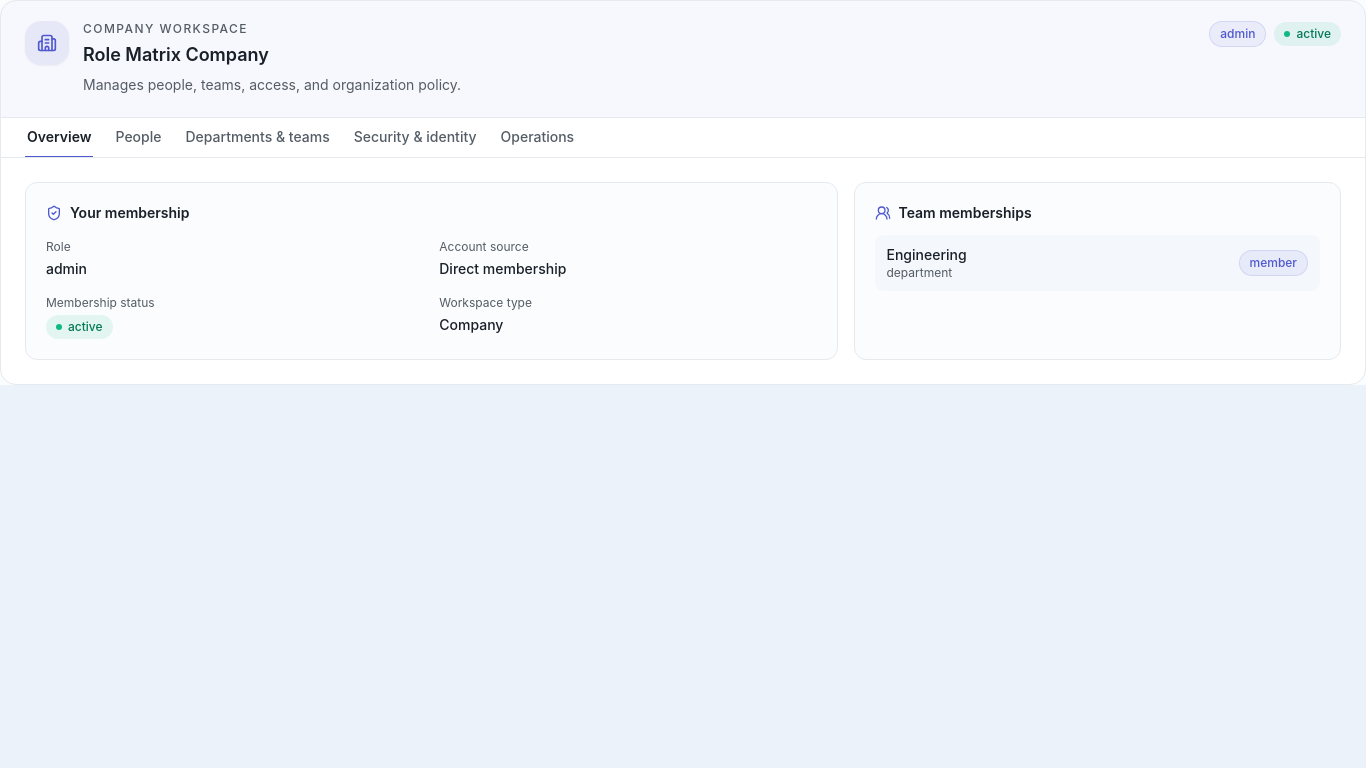
Test case: organization role surface › admin can manage people, departments, and identity policy
Click the tab "People". click: (138, 138)
box: [114, 118, 164, 158]
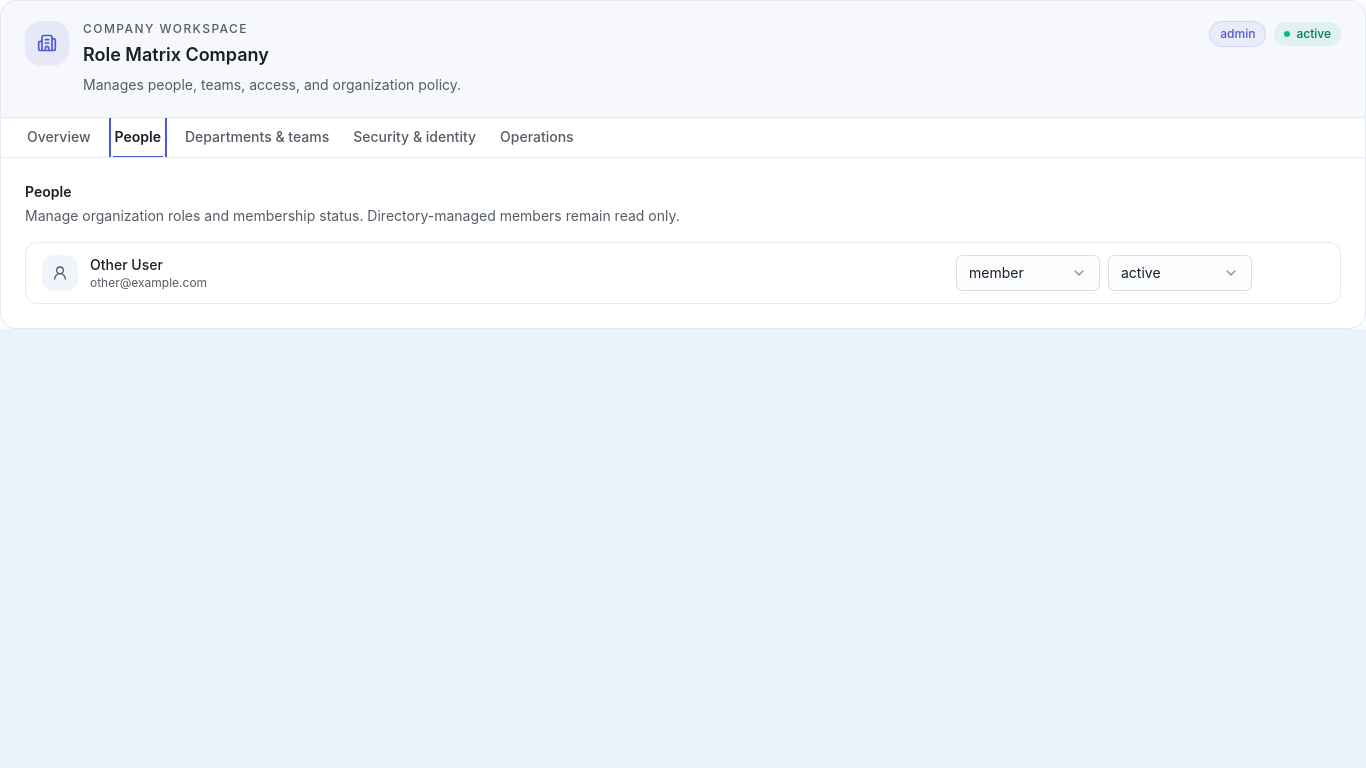
Result: the number of dropdowns is 2 at [956, 255, 1100, 291]; [1108, 255, 1252, 291]
Click the tab "Departments & teams". click: (257, 138)
box: [183, 118, 331, 158]
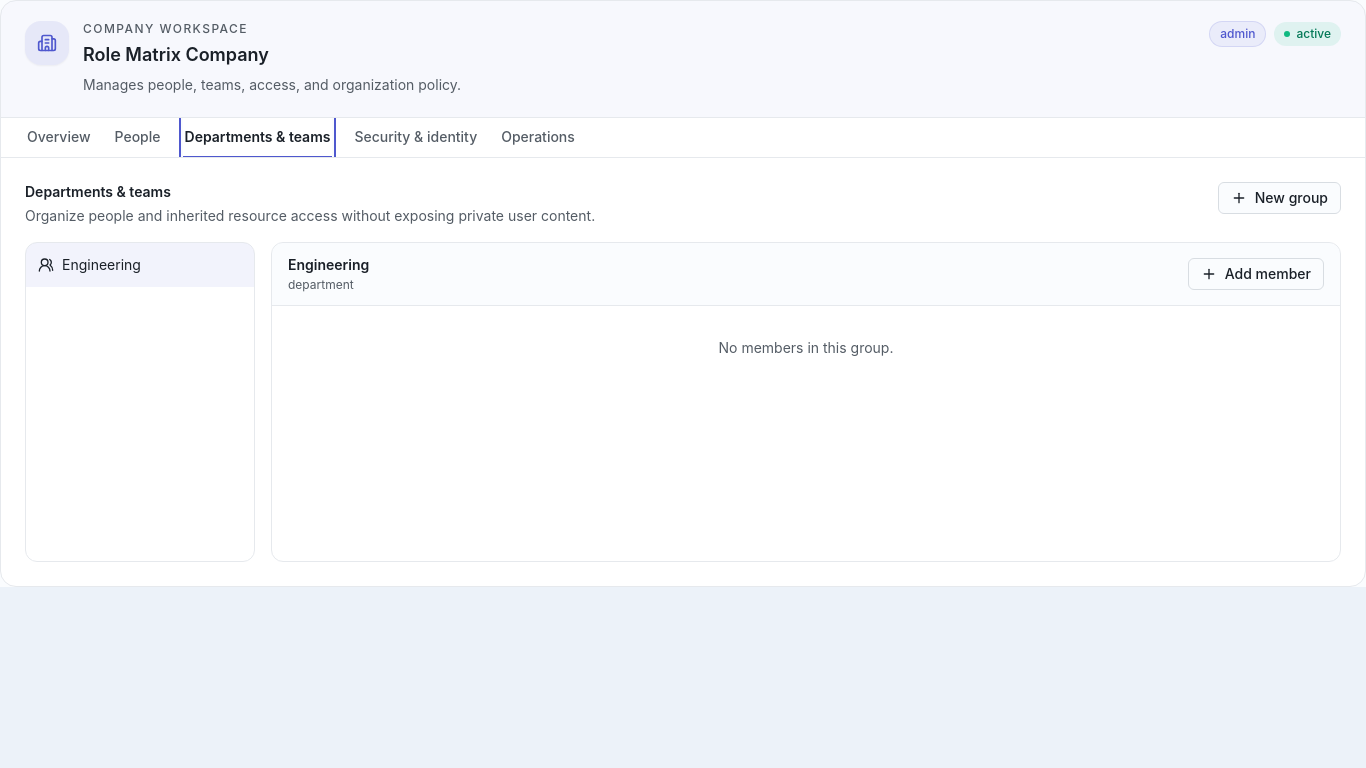
Expected: the tab "Security & identity" is shown, [352, 118, 479, 158]
Result: the button "New group" is shown at [1218, 182, 1341, 214]
Result: the button "Add member" is shown at [1188, 258, 1324, 290]
